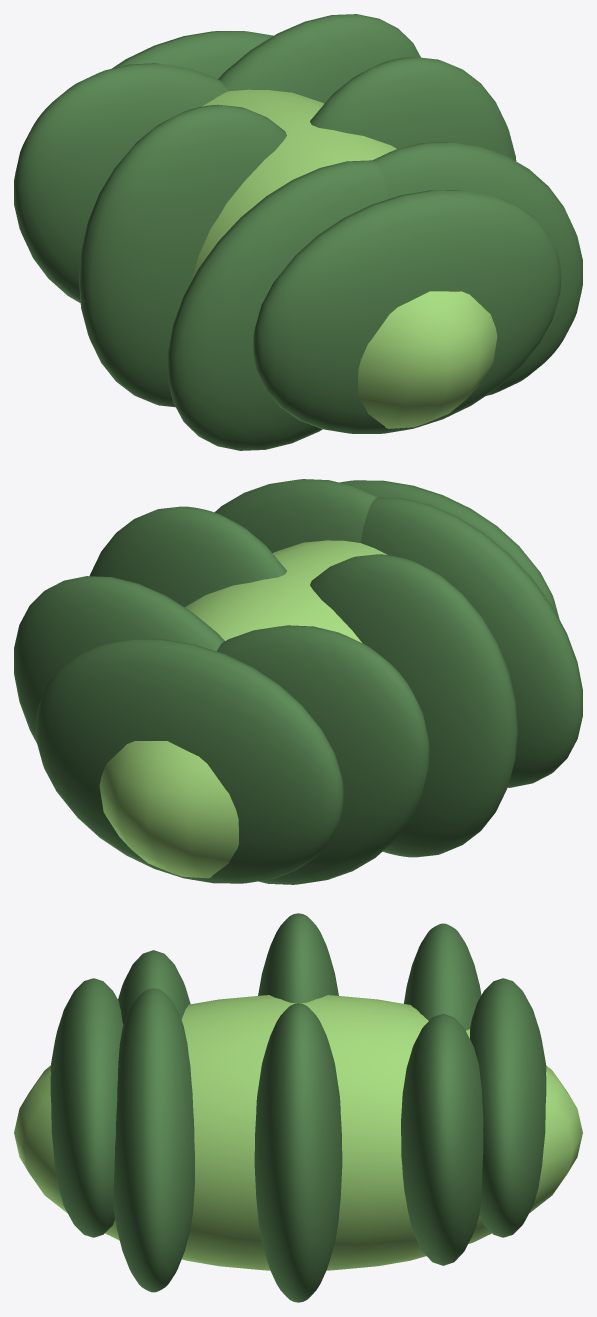
Rendered from wp-salade-verte.glb.
3 views of the same model, one above another, from view 1: azimuth 30°, elevation 25°; view 2: azimuth 150°, elevation 25°; view 3: azimuth 270°, elevation 25° (orthographic). The views are drawn at different scales.
Parts seen in each view (by area): view 1: wp-salade-verte; view 2: wp-salade-verte; view 3: wp-salade-verte.
Part boxes in pixels (bbox=[...]): wp-salade-verte: bbox=[14, 14, 582, 450]; wp-salade-verte: bbox=[14, 479, 582, 884]; wp-salade-verte: bbox=[14, 913, 582, 1302].
Size of the model in its own units: 0.183 by 0.123 by 0.22.
